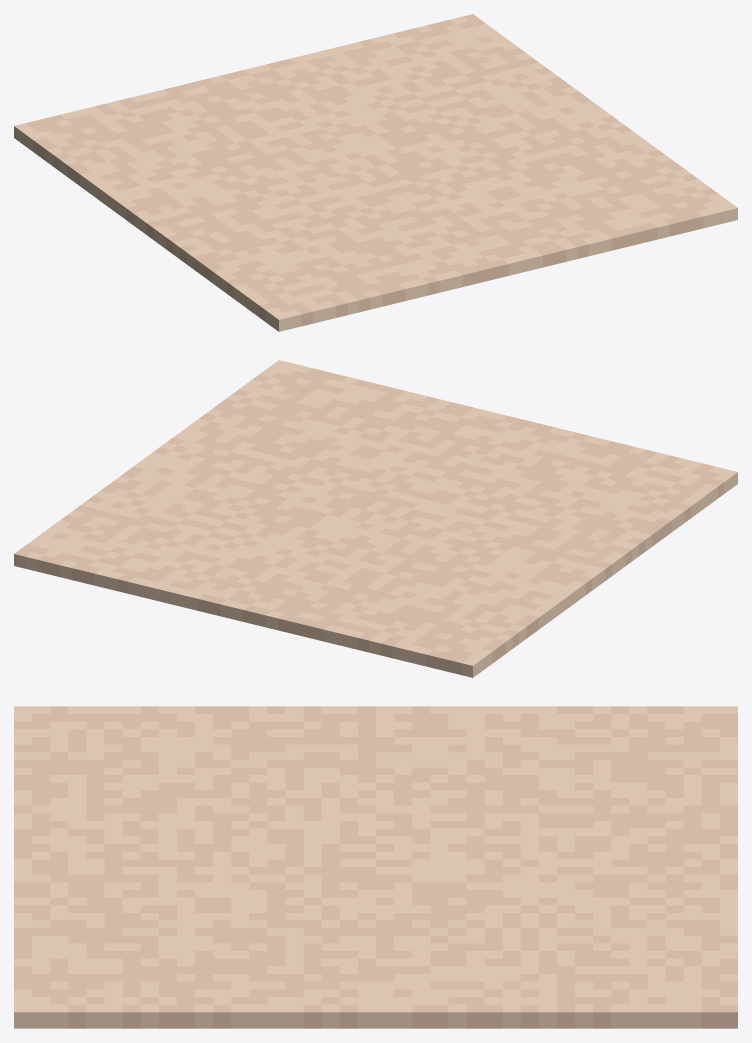
Rendered from floor_02_S.dae.
3 views of the same model, one above another, from view 1: azimuth 30°, elevation 25°; view 2: azimuth 150°, elevation 25°; view 3: azimuth 270°, elevation 25° (orthographic). The views are drawn at different scales.
Parts seen in each view (by area): view 1: Untitled; view 2: Untitled; view 3: Untitled.
Part boxes in pixels (left/top/right/bottom): Untitled: left=14, top=14, right=737, bottom=331; Untitled: left=14, top=360, right=737, bottom=677; Untitled: left=14, top=706, right=737, bottom=1028.
Size of the model in its own units: 1.2 by 1.2 by 0.03.
1 material, 1 textured.
